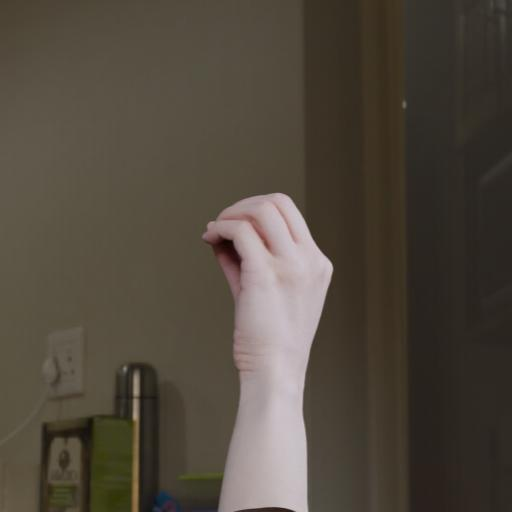O: (192, 168, 348, 385)
